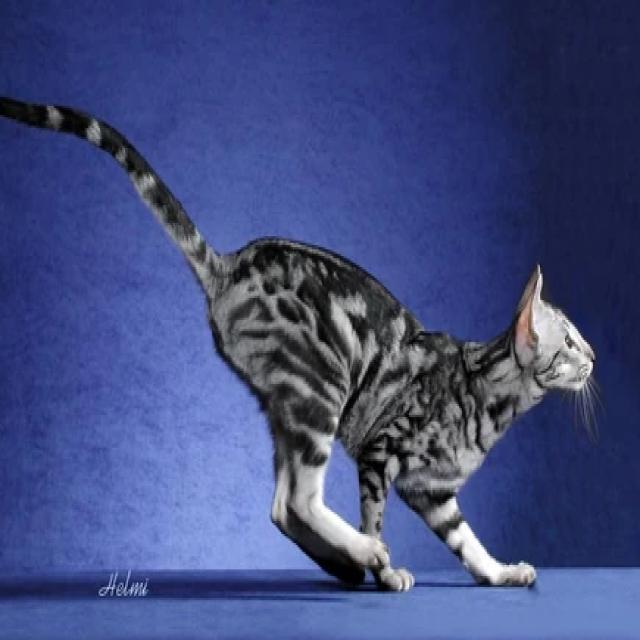Oriental: (0, 86, 599, 596)
